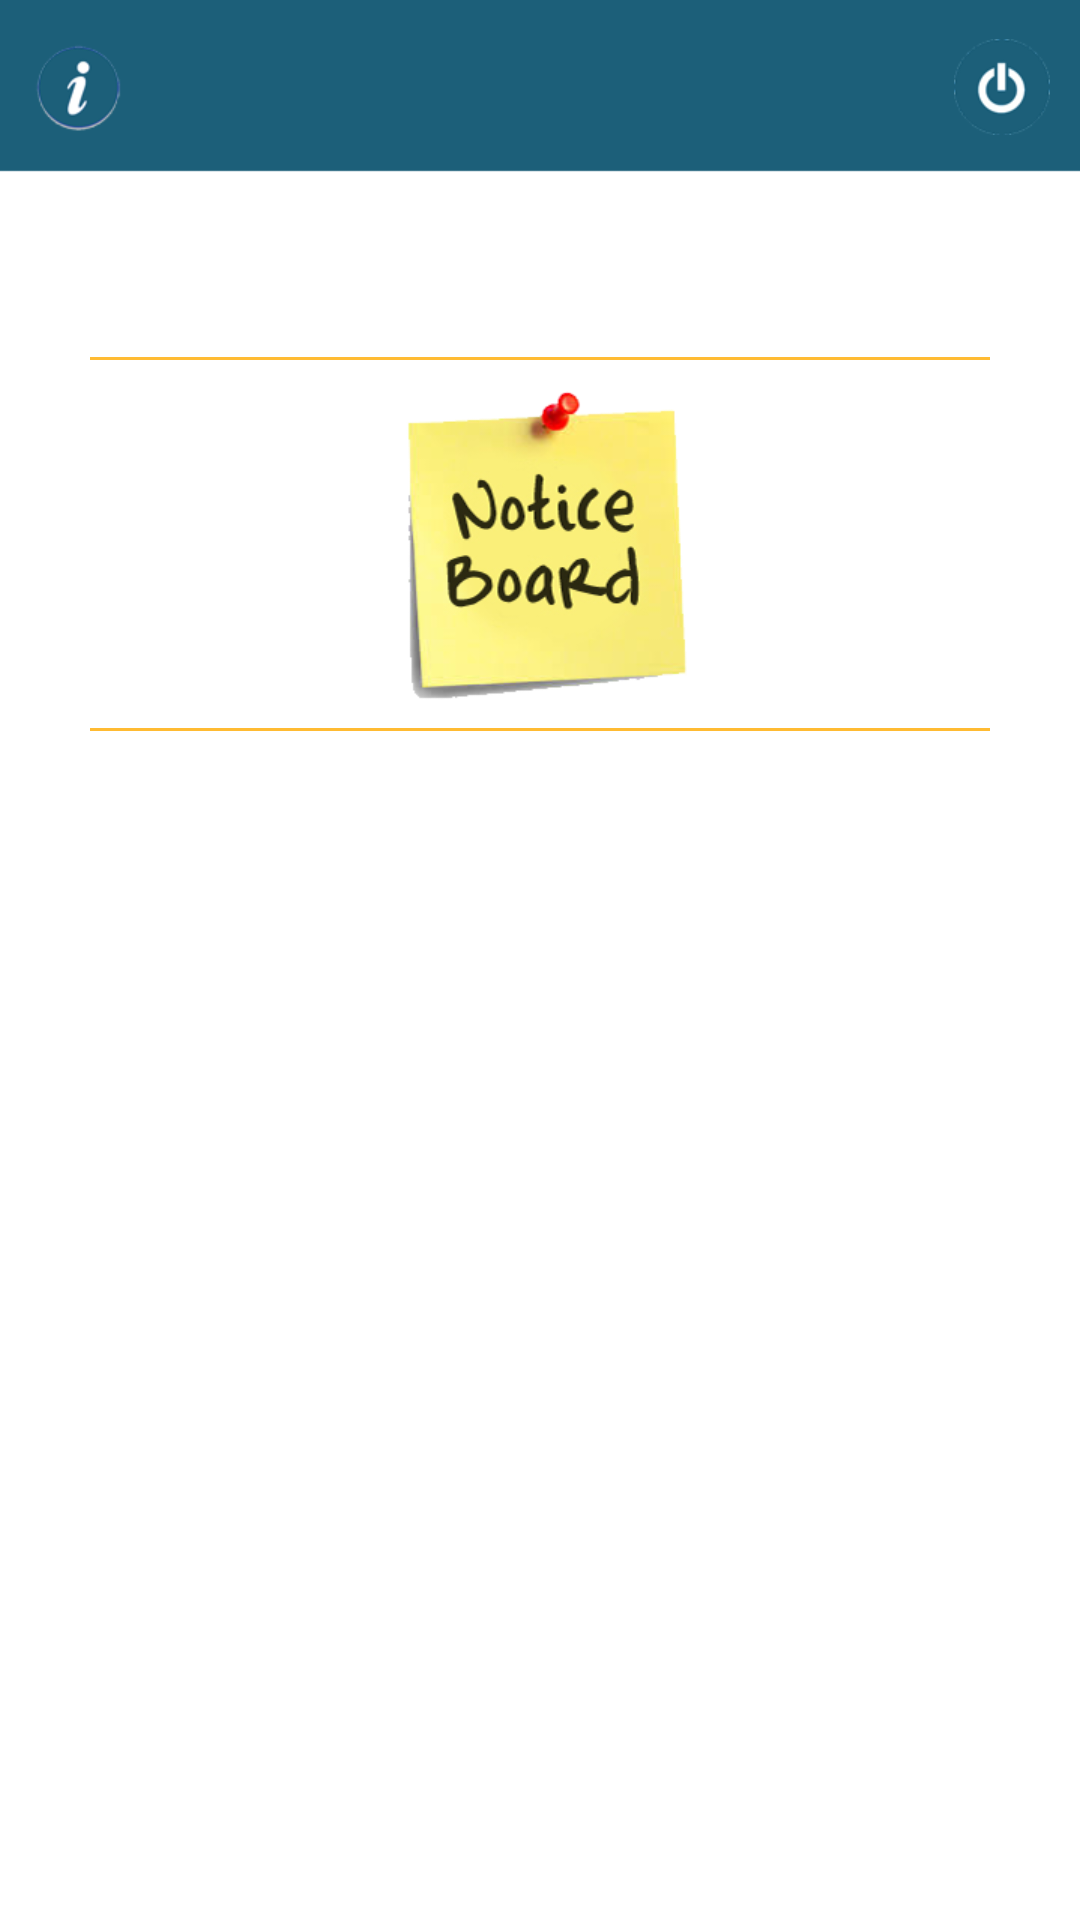

Point at icon controls on the screen. Image size 1080 x 1920, points as point (x, y).
about us: point (78, 88)
